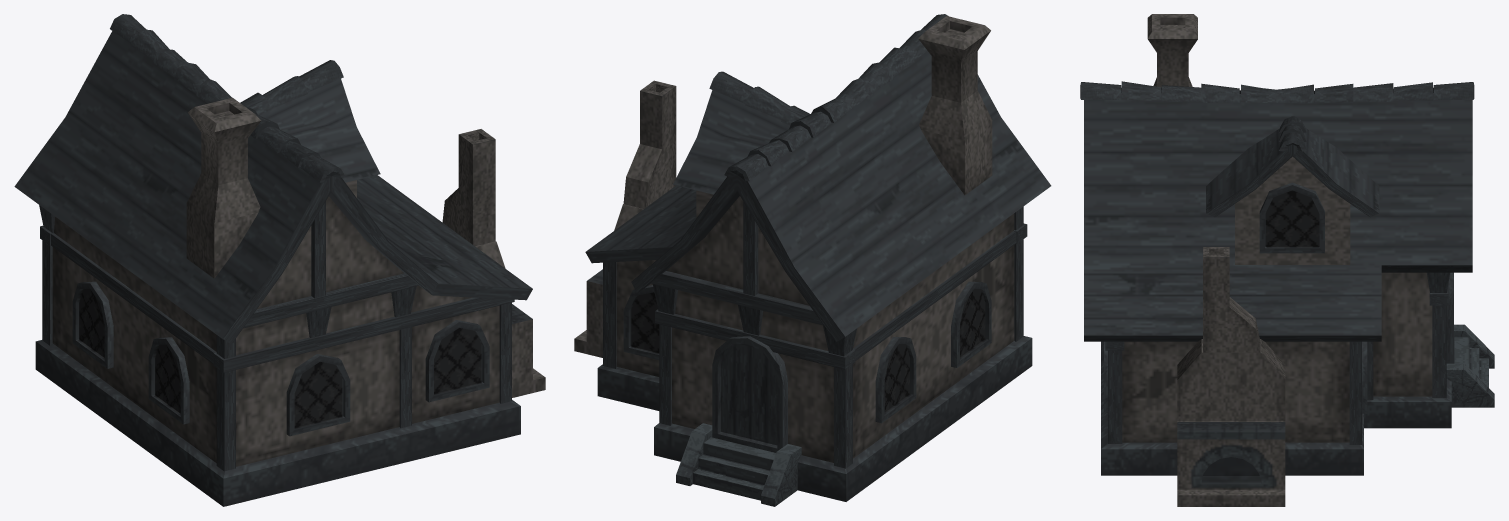
The model's file is House.fbx.
3 views of the same model, side by side, from view 1: azimuth 30°, elevation 25°; view 2: azimuth 150°, elevation 25°; view 3: azimuth 270°, elevation 25° (orthographic). The views are drawn at different scales.
Parts seen in each view (by area): view 1: House, HouseChimney; view 2: House, HouseChimney; view 3: House, HouseChimney.
Part boxes in pixels (<box>): House: <box>14,14,532,506</box>; HouseChimney: <box>442,129,545,397</box>; House: <box>585,14,1051,506</box>; HouseChimney: <box>574,80,676,357</box>; House: <box>1080,14,1494,475</box>; HouseChimney: <box>1177,247,1285,506</box>.
Size of the model in its own units: 7.67 by 7.07 by 7.89.
